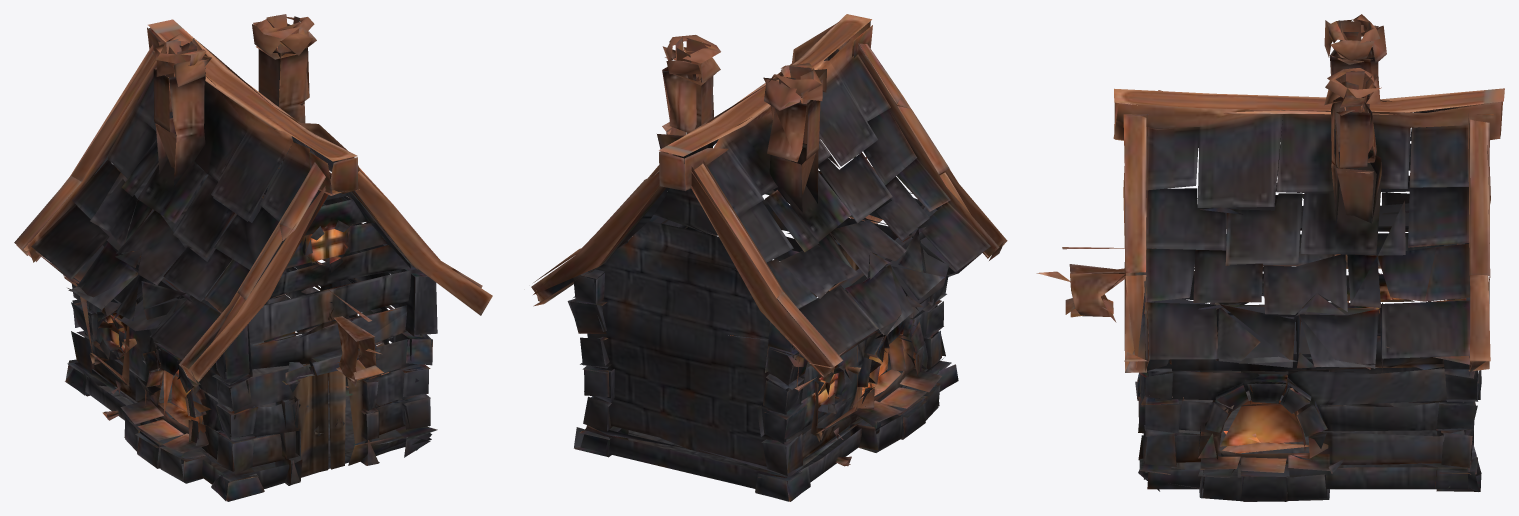
The model's file is k-atelier-semis.glb.
3 views of the same model, side by side, from view 1: azimuth 30°, elevation 25°; view 2: azimuth 150°, elevation 25°; view 3: azimuth 270°, elevation 25° (orthographic). The views are drawn at different scales.
Visible parts, largest first — view 1: k-atelier-semis; view 2: k-atelier-semis; view 3: k-atelier-semis.
Boxes of the visible parts, x1,y1,x2,y2 form: k-atelier-semis: [14, 14, 492, 501]; k-atelier-semis: [531, 14, 1007, 501]; k-atelier-semis: [1036, 14, 1504, 501].
Size of the model in its own units: 0.7563 by 0.8778 by 0.9499.
1 material, 1 textured.
